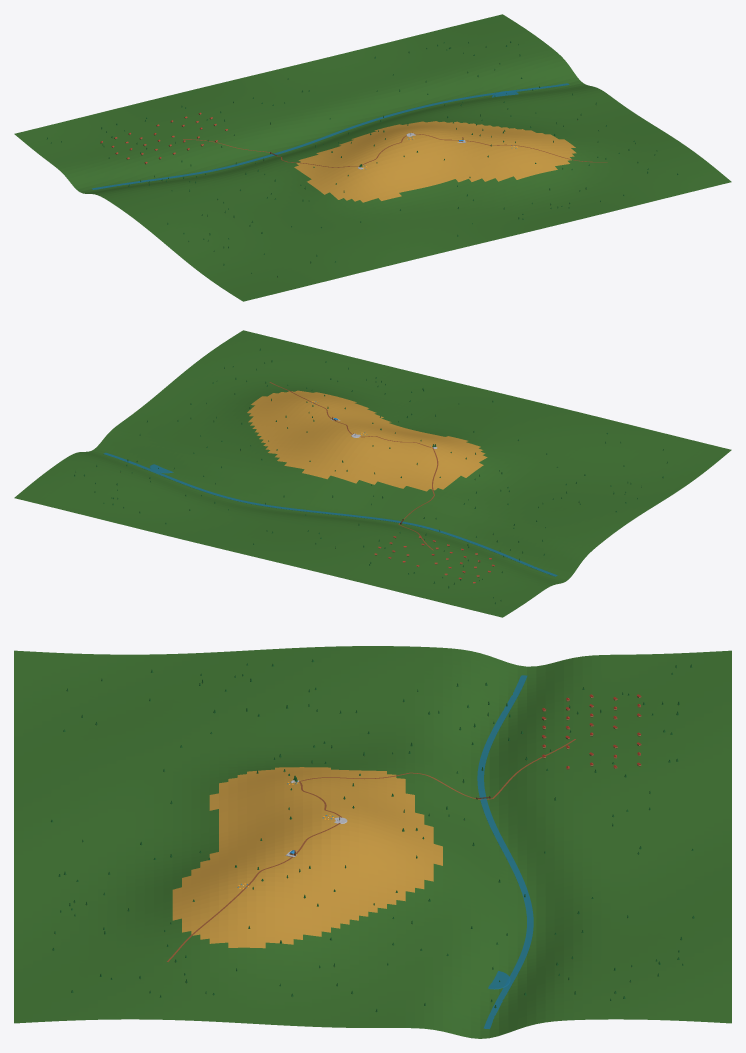
File: ring3_auto_b03_duc_trong_ta_nang_phan_dung_grassland_and_3province_marker.glb
3 views of the same model, one above another, from view 1: azimuth 30°, elevation 25°; view 2: azimuth 150°, elevation 25°; view 3: azimuth 270°, elevation 25° (orthographic). The views are drawn at different scales.
Visible parts, largest first — view 1: TaNang_Emerald_Grassland_Valley_Terrain, TaNang_Golden_BurningGrass_Ridge_Terrain, SuoiTaNang_And_Yavly_Cascade_Water, TaNang_ThreeNeedle_Pine_Canopies, TaNang_PhanDung_RedDirt_Trekking_Trail; view 2: TaNang_Emerald_Grassland_Valley_Terrain, TaNang_Golden_BurningGrass_Ridge_Terrain, SuoiTaNang_And_Yavly_Cascade_Water, TaNang_ThreeNeedle_Pine_Canopies; view 3: TaNang_Emerald_Grassland_Valley_Terrain, TaNang_Golden_BurningGrass_Ridge_Terrain, SuoiTaNang_And_Yavly_Cascade_Water, TaNang_ThreeNeedle_Pine_Canopies, TaNang_PhanDung_RedDirt_Trekking_Trail.
Part boxes in pixels (x1,y1,x2,y2): TaNang_Emerald_Grassland_Valley_Terrain: [14, 14, 731, 301]; TaNang_Golden_BurningGrass_Ridge_Terrain: [294, 121, 576, 202]; SuoiTaNang_And_Yavly_Cascade_Water: [92, 83, 569, 189]; TaNang_ThreeNeedle_Pine_Canopies: [47, 41, 678, 277]; TaNang_PhanDung_RedDirt_Trekking_Trail: [183, 133, 607, 167]; TaNang_Emerald_Grassland_Valley_Terrain: [14, 330, 731, 617]; TaNang_Golden_BurningGrass_Ridge_Terrain: [247, 390, 487, 491]; SuoiTaNang_And_Yavly_Cascade_Water: [103, 452, 557, 576]; TaNang_ThreeNeedle_Pine_Canopies: [74, 348, 667, 604]; TaNang_Emerald_Grassland_Valley_Terrain: [14, 646, 731, 1038]; TaNang_Golden_BurningGrass_Ridge_Terrain: [172, 767, 442, 948]; SuoiTaNang_And_Yavly_Cascade_Water: [477, 675, 533, 1028]; TaNang_ThreeNeedle_Pine_Canopies: [51, 659, 694, 1012]; TaNang_PhanDung_RedDirt_Trekking_Trail: [167, 739, 575, 961].
Bounding box in the file's own units: 3200 × 231 × 2600.
